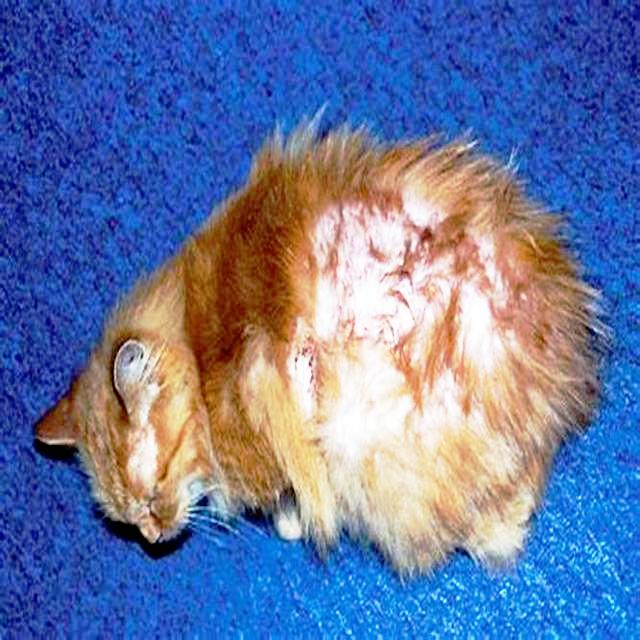hairloss: (296, 209, 504, 446)
